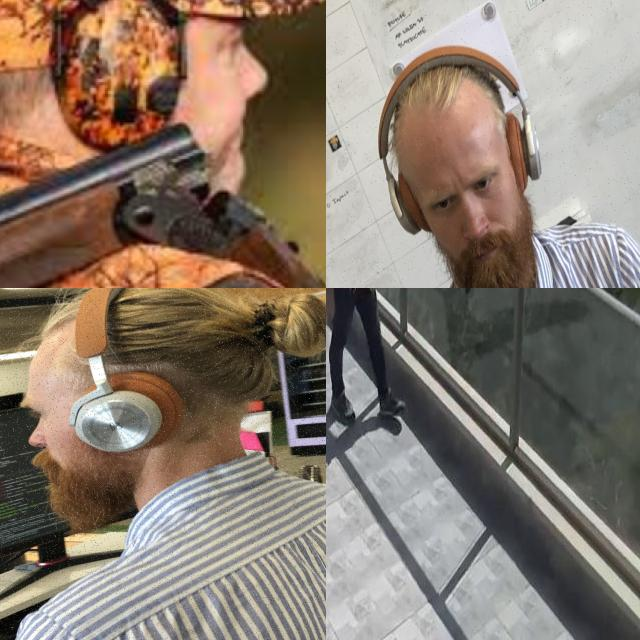Ear-protection: (0, 288, 326, 545), (0, 0, 272, 213), (499, 100, 550, 204)
No_Glasses: (419, 164, 507, 224), (199, 16, 269, 78)
